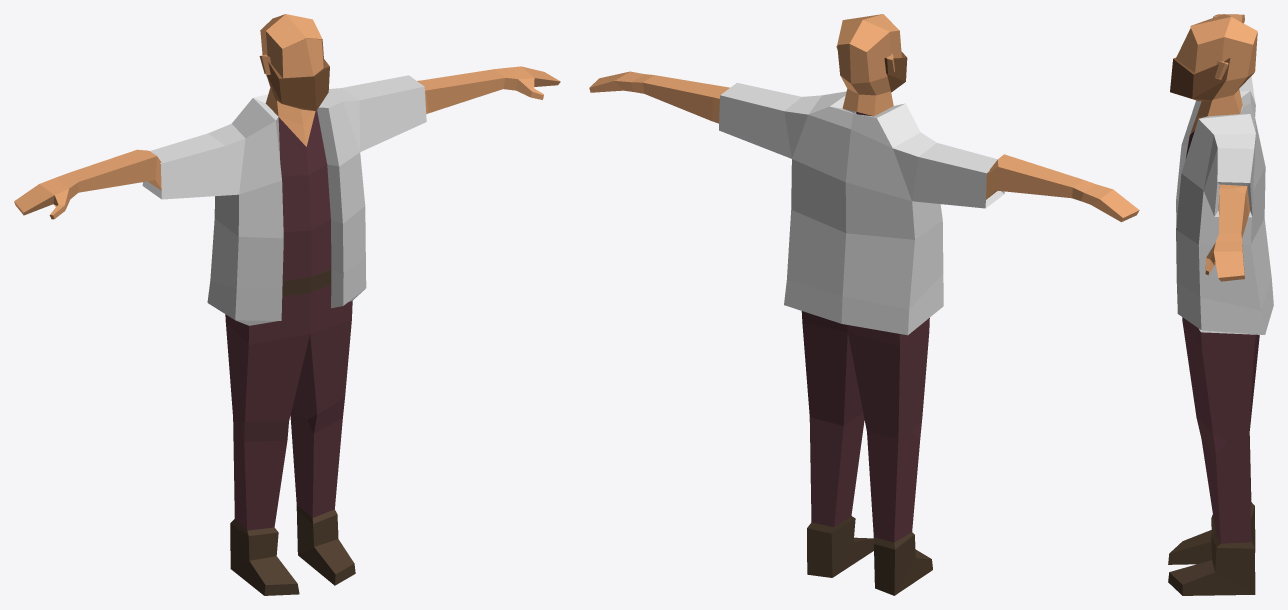
File: Stijn.fbx
3 renders of one model, left to right at view 1: azimuth 30°, elevation 25°; view 2: azimuth 150°, elevation 25°; view 3: azimuth 270°, elevation 25°, orthographic.
Visible parts, largest first — view 1: man-pedestrian-rival_Rig; view 2: man-pedestrian-rival_Rig; view 3: man-pedestrian-rival_Rig.
Part boxes in pixels (<box>): man-pedestrian-rival_Rig: <box>14,14,560,595</box>; man-pedestrian-rival_Rig: <box>589,14,1139,595</box>; man-pedestrian-rival_Rig: <box>1168,14,1273,595</box>.
Size of the model in its own units: 183 by 180 by 31.02.
